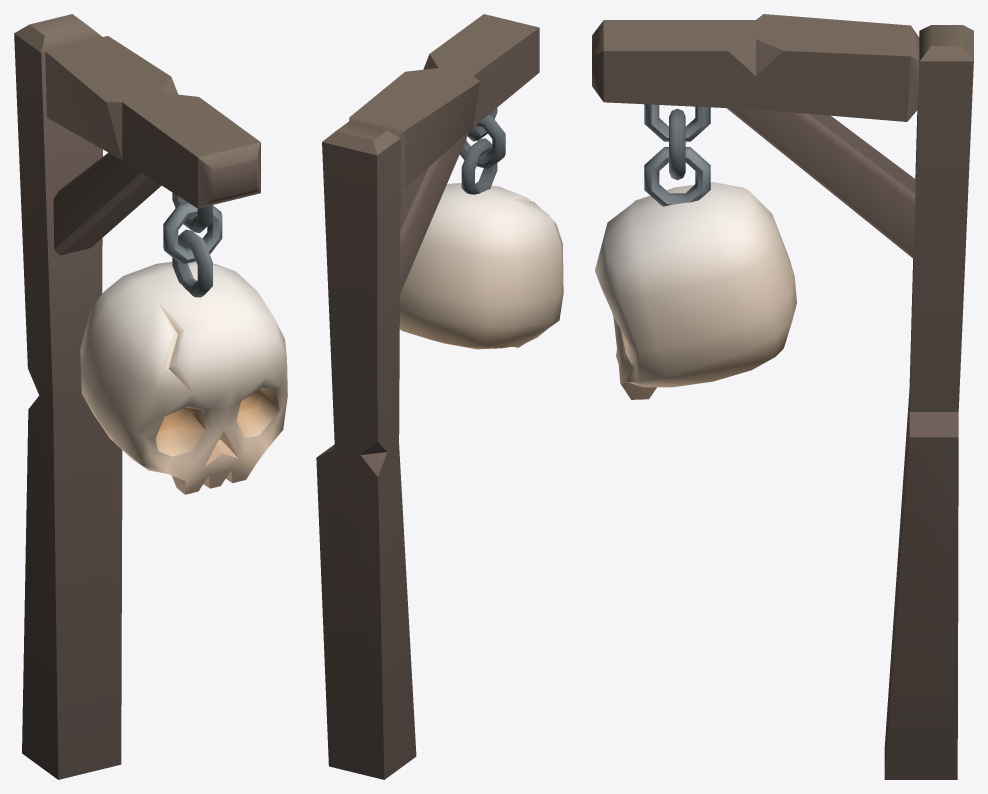
The model's file is d_kaykit_poteau_crane.glb.
The picture shows the model from 3 angles, left to right: view 1: azimuth 30°, elevation 25°; view 2: azimuth 150°, elevation 25°; view 3: azimuth 270°, elevation 25°; orthographic projection. The views are drawn at different scales.
Parts seen in each view (by area): view 1: d_kaykit_poteau_crane; view 2: d_kaykit_poteau_crane; view 3: d_kaykit_poteau_crane.
Part boxes in pixels (<box>): d_kaykit_poteau_crane: <box>14,14,287,779</box>; d_kaykit_poteau_crane: <box>316,14,563,779</box>; d_kaykit_poteau_crane: <box>592,14,973,779</box>.
Bounding box in the file's own units: 0.8089 × 3.3 × 1.57.
1 material, 1 textured.
